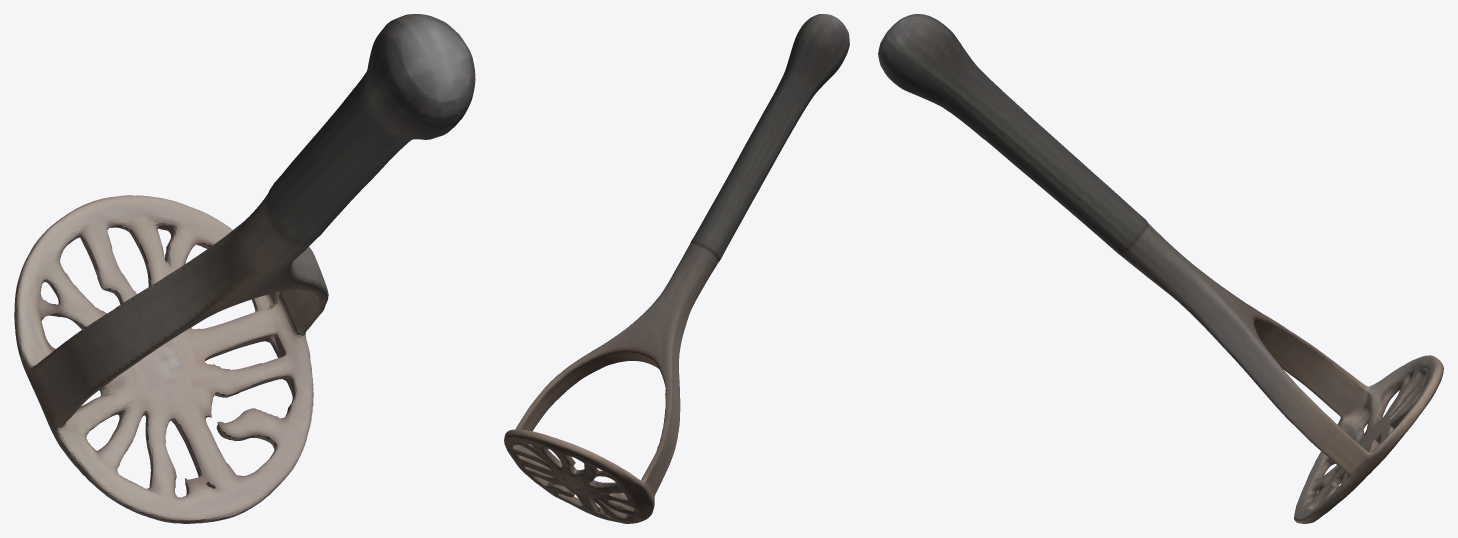
The model's file is frame_0091_source_000091_object.glb.
3 views of the same model, side by side, from view 1: azimuth 30°, elevation 25°; view 2: azimuth 150°, elevation 25°; view 3: azimuth 270°, elevation 25° (orthographic). The views are drawn at different scales.
Parts seen in each view (by area): view 1: world; view 2: world; view 3: world.
Boxes of the visible parts, x1=… form: world: x1=14, y1=14, x2=475, y2=523; world: x1=504, y1=14, x2=849, y2=523; world: x1=878, y1=14, x2=1443, y2=523.
Bounding box in the file's own units: 0.0763 × 0.2012 × 0.2209.
